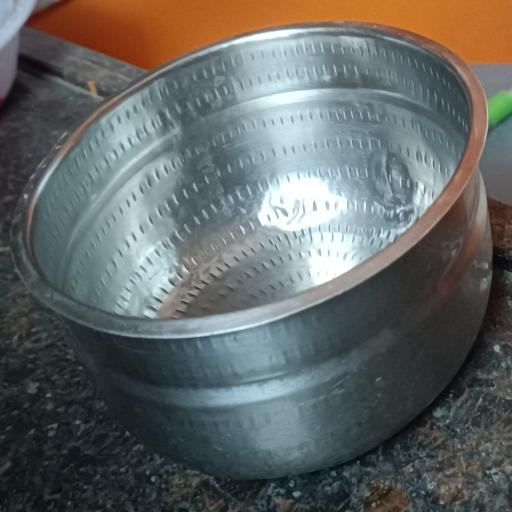vessel: (12, 23, 491, 478)
